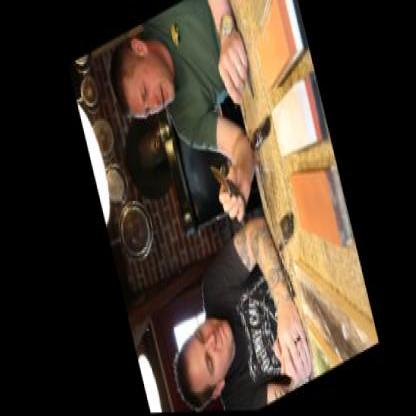knife: (202, 146, 242, 220)
